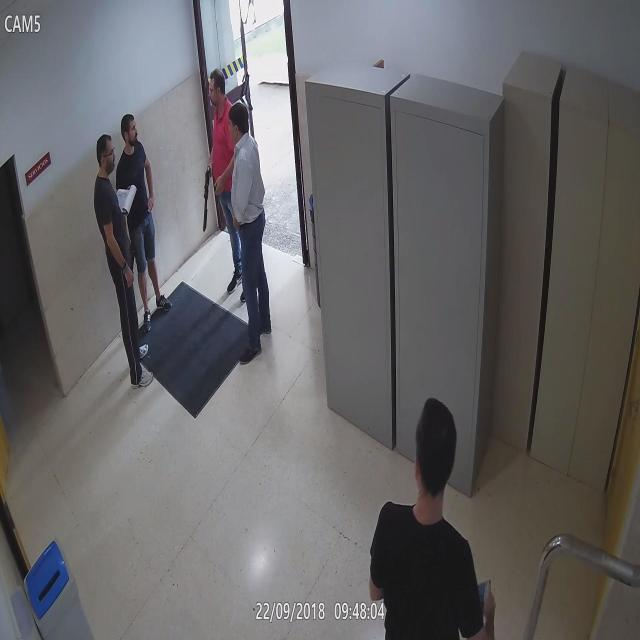pistol: (199, 163, 214, 241)
